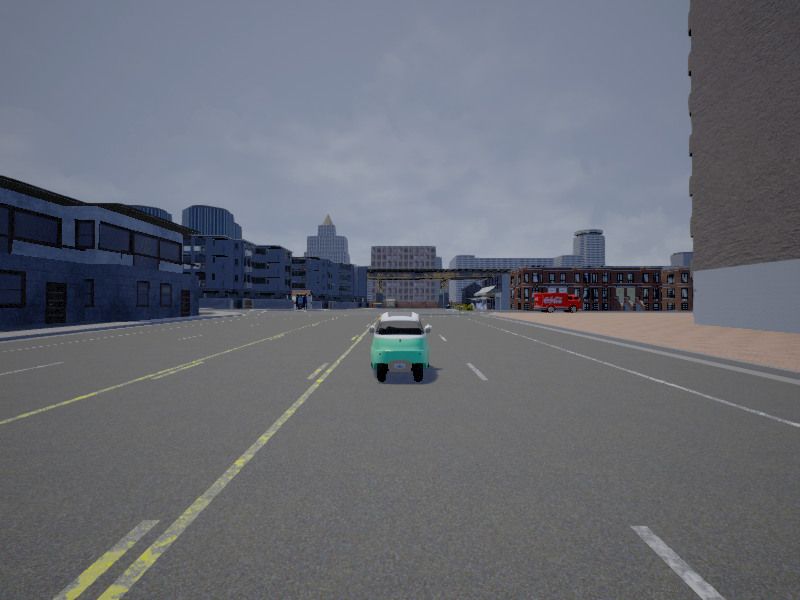Benign: (370, 311, 431, 383), (532, 293, 581, 312)
